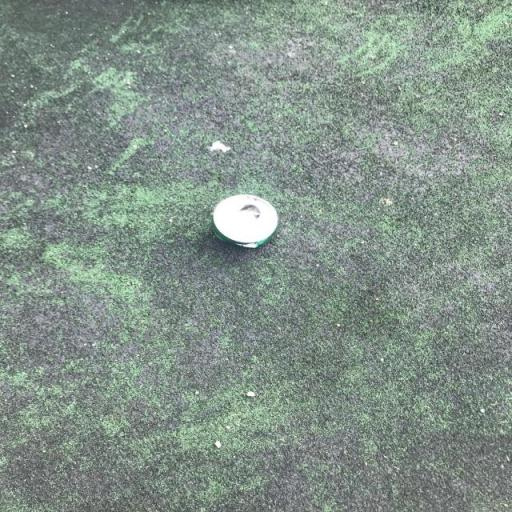metal: (186, 187, 304, 263)
